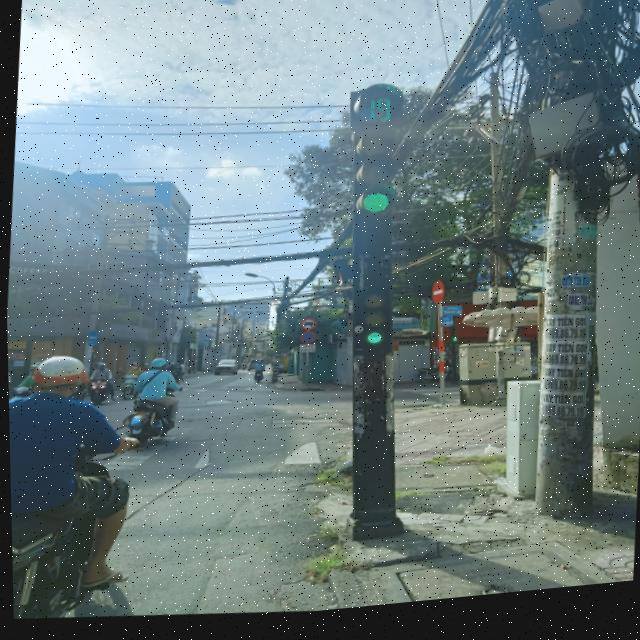Green: (341, 127, 404, 230), (340, 282, 395, 364)
